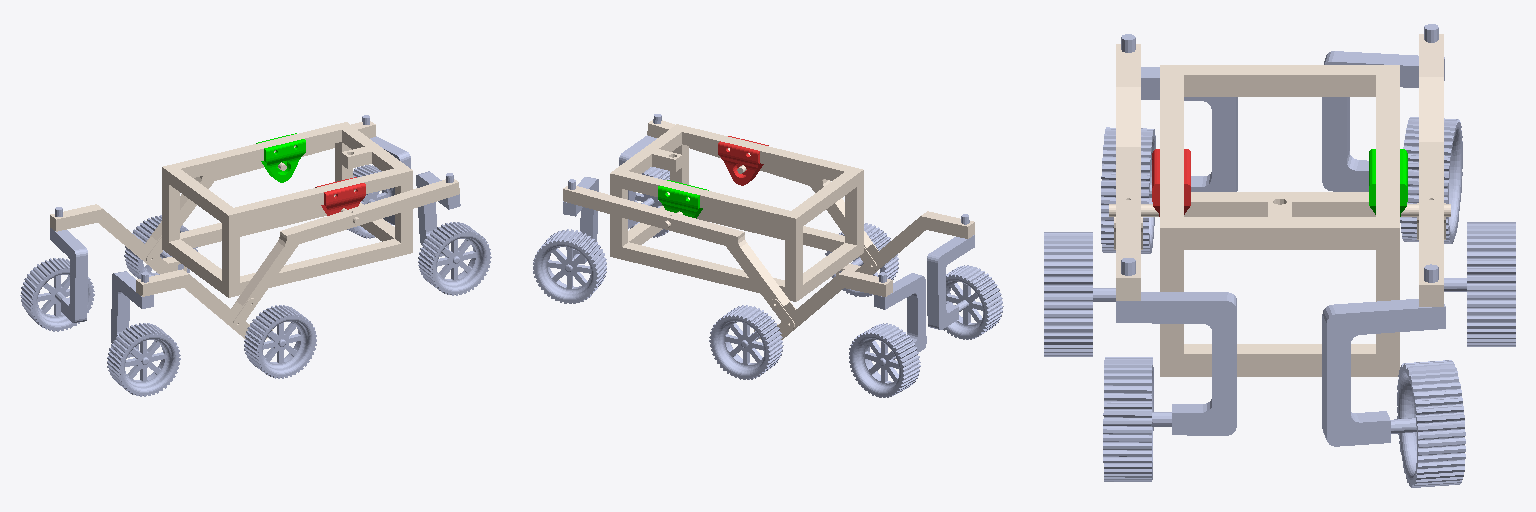
--- What the picture shows (computed from the rendered views, not written in the file) ---
3 views of the same robot in one strip: view 1: azimuth 30°, elevation 25°; view 2: azimuth 150°, elevation 25°; view 3: azimuth 270°, elevation 25° (orthographic).
Model rover_urdf with 19 links and 18 joints (14 continuous, 4 fixed), rooted at body, posed every joint at zero.
Links seen in each view (by area): view 1: body, left_back_leg, lm_wheel, lb_wheel, fl_wheel, fr_wheel, right_front_leg, fr_holder, left_front_leg, right_back_leg, fl_holder, right_holder (+5 smaller); view 2: body, right_back_leg, fr_wheel, rm_wheel, rb_wheel, fl_wheel, fl_holder, left_front_leg, fr_holder, right_front_leg, left_back_leg, left_holder (+5 smaller); view 3: body, rb_holder, rb_wheel, lb_holder, lb_wheel, lm_wheel, rm_wheel, fr_holder, right_back_leg, fl_holder, left_back_leg, fr_wheel (+5 smaller).
Boxes of the visible links, x1,y1,x2,y2 form: body: (162, 122, 412, 297); left_back_leg: (231, 179, 459, 328); lm_wheel: (244, 305, 316, 378); lb_wheel: (418, 222, 491, 295); fl_wheel: (107, 323, 180, 396); fr_wheel: (20, 258, 94, 331); right_front_leg: (50, 204, 186, 273); fr_holder: (50, 207, 87, 322); left_front_leg: (136, 269, 272, 338); right_back_leg: (145, 121, 375, 263); fl_holder: (111, 271, 153, 357); right_holder: (256, 133, 305, 182); body: (610, 124, 863, 301); right_back_leg: (563, 186, 795, 329); fr_wheel: (849, 323, 920, 397); rm_wheel: (709, 305, 783, 379); rb_wheel: (533, 229, 606, 303); fl_wheel: (943, 265, 1003, 339); fl_holder: (927, 214, 974, 329); left_front_leg: (836, 211, 974, 275); fr_holder: (874, 272, 926, 351); right_front_leg: (754, 269, 892, 339); left_back_leg: (647, 120, 878, 271); left_holder: (718, 136, 768, 185); body: (1160, 65, 1399, 376); rb_holder: (1322, 264, 1445, 446); rb_wheel: (1391, 360, 1465, 487); lb_holder: (1116, 258, 1236, 435); lb_wheel: (1103, 357, 1171, 481); lm_wheel: (1044, 232, 1115, 356); rm_wheel: (1444, 222, 1515, 346); fr_holder: (1322, 24, 1444, 191); right_back_leg: (1417, 142, 1445, 306); fl_holder: (1121, 34, 1237, 191); left_back_leg: (1114, 147, 1142, 300); fr_wheel: (1400, 117, 1462, 243).
Size in the robot's own frame: 0.8121 by 0.4892 by 0.3036 metres.
Meshes: 19 distinct files referenced, 19 mesh visuals loaded (19 binary STL).

robot.urdf — rover_urdf:
<?xml version="1.0" encoding="utf-8"?>
<!-- This URDF was automatically created by SolidWorks to URDF Exporter! Originally created by Stephen Brawner ([email redacted]) 
     Commit Version: 1.6.0-4-g7f85cfe  Build Version: 1.6.7995.38578
     For more information, please see http://wiki.ros.org/sw_urdf_exporter -->
<robot
  name="rover_urdf">
  <link
    name="body">
    <inertial>
      <origin
        xyz="0.00206695405737998 8.63122796209011E-17 0.0861748476723831"
        rpy="0 0 0" />
      <mass
        value="7.43015679181802" />
      <inertia
        ixx="0.108218854218212"
        ixy="2.57942889092488E-17"
        ixz="-0.0011001777951298"
        iyy="0.206151999566343"
        iyz="2.02909506100971E-17"
        izz="0.245214659613658" />
    </inertial>
    <visual>
      <origin
        xyz="0 0 0"
        rpy="0 0 0" />
      <geometry>
        <mesh
          filename="package://rover_urdf/meshes/body.STL" />
      </geometry>
      <material
        name="">
        <color
          rgba="1 0.949019607843137 0.898039215686275 1" />
      </material>
    </visual>
    <collision>
      <origin
        xyz="0 0 0"
        rpy="0 0 0" />
      <geometry>
        <mesh
          filename="package://rover_urdf/meshes/body.STL" />
      </geometry>
    </collision>
  </link>
  <link
    name="left_holder">
    <inertial>
      <origin
        xyz="0.0499999690870717 0.13535915620288 -0.111880212830167"
        rpy="0 0 0" />
      <mass
        value="0.129138142884314" />
      <inertia
        ixx="6.79797091007009E-05"
        ixy="2.56978296235324E-10"
        ixz="-7.42083730598593E-11"
        iyy="7.87496484871381E-05"
        iyz="8.00166419927739E-07"
        izz="0.000112770580014923" />
    </inertial>
    <visual>
      <origin
        xyz="0 0 0"
        rpy="0 0 0" />
      <geometry>
        <mesh
          filename="package://rover_urdf/meshes/left_holder.STL" />
      </geometry>
      <material
        name="">
        <color
          rgba="0.968627450980392 0.258823529411765 0.258823529411765 1" />
      </material>
    </visual>
    <collision>
      <origin
        xyz="0 0 0"
        rpy="0 0 0" />
      <geometry>
        <mesh
          filename="package://rover_urdf/meshes/left_holder.STL" />
      </geometry>
    </collision>
  </link>
  <joint
    name="left_holder_fixed_joint"
    type="fixed">
    <origin
      xyz="0 -0.2246 0"
      rpy="1.5707963267949 0 0" />
    <parent
      link="body" />
    <child
      link="left_holder" />
    <axis
      xyz="0 0 0" />
  </joint>
  <link
    name="left_axle">
    <inertial>
      <origin
        xyz="-1.03613220781007E-09 7.30010218941146E-10 0.0397044005984214"
        rpy="0 0 0" />
      <mass
        value="0.0402701593247288" />
      <inertia
        ixx="2.1263553866931E-05"
        ixy="-5.87477865433296E-12"
        ixz="-4.24680561742556E-13"
        iyy="2.12754497691933E-05"
        iyz="3.65475974322295E-13"
        izz="8.56678535708769E-07" />
    </inertial>
    <visual>
      <origin
        xyz="0 0 0"
        rpy="0 0 0" />
      <geometry>
        <mesh
          filename="package://rover_urdf/meshes/left_axle.STL" />
      </geometry>
      <material
        name="">
        <color
          rgba="1 0.949019607843137 0.898039215686275 1" />
      </material>
    </visual>
    <collision>
      <origin
        xyz="0 0 0"
        rpy="0 0 0" />
      <geometry>
        <mesh
          filename="package://rover_urdf/meshes/left_axle.STL" />
      </geometry>
    </collision>
  </link>
  <joint
    name="left_axle_joint"
    type="continuous">
    <origin
      xyz="0.0499999999999996 0.1204 -0.0465"
      rpy="3.14159265358979 0 0.0644510369253282" />
    <parent
      link="left_holder" />
    <child
      link="left_axle" />
    <axis
      xyz="0 0 1" />
  </joint>
  <link
    name="left_back_leg">
    <inertial>
      <origin
        xyz="0.0145957941948368 0.0983402459607765 0.157299999710009"
        rpy="0 0 0" />
      <mass
        value="1.31210889248458" />
      <inertia
        ixx="0.00167622865487846"
        ixy="-0.00445767787806799"
        ixz="-7.41039868795725E-12"
        iyy="0.0255229579148809"
        iyz="4.88113910572869E-11"
        izz="0.0270508960615517" />
    </inertial>
    <visual>
      <origin
        xyz="0 0 0"
        rpy="0 0 0" />
      <geometry>
        <mesh
          filename="package://rover_urdf/meshes/left_back_leg.STL" />
      </geometry>
      <material
        name="">
        <color
          rgba="1 0.949019607843137 0.898039215686275 1" />
      </material>
    </visual>
    <collision>
      <origin
        xyz="0 0 0"
        rpy="0 0 0" />
      <geometry>
        <mesh
          filename="package://rover_urdf/meshes/left_back_leg.STL" />
      </geometry>
    </collision>
  </link>
  <joint
    name="left_back_leg_axle_joint"
    type="fixed">
    <origin
      xyz="-0.0476714836347426 0.117573762583591 0.1781"
      rpy="3.14159265358979 0 0" />
    <parent
      link="left_axle" />
    <child
      link="left_back_leg" />
    <axis
      xyz="0 0 0" />
  </joint>
  <link
    name="left_front_leg">
    <inertial>
      <origin
        xyz="-0.0605411450020819 0.050696843595847 0.0127000000000002"
        rpy="0 0 0" />
      <mass
        value="0.843530398310415" />
      <inertia
        ixx="0.00257481623998851"
        ixy="0.00326111108154062"
        ixz="-2.84039950033016E-18"
        iyy="0.00472969767884993"
        iyz="1.73564283791052E-18"
        izz="0.00721240056924807" />
    </inertial>
    <visual>
      <origin
        xyz="0 0 0"
        rpy="0 0 0" />
      <geometry>
        <mesh
          filename="package://rover_urdf/meshes/left_front_leg.STL" />
      </geometry>
      <material
        name="">
        <color
          rgba="1 0.949019607843137 0.898039215686275 1" />
      </material>
    </visual>
    <collision>
      <origin
        xyz="0 0 0"
        rpy="0 0 0" />
      <geometry>
        <mesh
          filename="package://rover_urdf/meshes/left_front_leg.STL" />
      </geometry>
    </collision>
  </link>
  <joint
    name="left_front_back_leg_joint"
    type="continuous">
    <origin
      xyz="-0.218349872602567 -0.0185870814115816 0.1446"
      rpy="0 0 -0.0824258695188487" />
    <parent
      link="left_back_leg" />
    <child
      link="left_front_leg" />
    <axis
      xyz="0 0 1" />
  </joint>
  <link
    name="fl_holder">
    <inertial>
      <origin
        xyz="0.0711505399136167 0.0410733548247289 -5.55111512312578E-17"
        rpy="0 0 0" />
      <mass
        value="0.190347413867644" />
      <inertia
        ixx="0.000535696131129174"
        ixy="0.000179016703675683"
        ixz="-5.75982404132924E-20"
        iyy="0.000261704399386396"
        iyz="6.68308995383643E-19"
        izz="0.000777073421920895" />
    </inertial>
    <visual>
      <origin
        xyz="0 0 0"
        rpy="0 0 0" />
      <geometry>
        <mesh
          filename="package://rover_urdf/meshes/fl_holder.STL" />
      </geometry>
      <material
        name="">
        <color
          rgba="0.792156862745098 0.819607843137255 0.933333333333333 1" />
      </material>
    </visual>
    <collision>
      <origin
        xyz="0 0 0"
        rpy="0 0 0" />
      <geometry>
        <mesh
          filename="package://rover_urdf/meshes/fl_holder.STL" />
      </geometry>
    </collision>
  </link>
  <joint
    name="fl_leg_joint"
    type="continuous">
    <origin
      xyz="-0.194966017177982 0 0.0127"
      rpy="0 1.5086961784931 0" />
    <parent
      link="left_front_leg" />
    <child
      link="fl_holder" />
    <axis
      xyz="0 1 0" />
  </joint>
  <link
    name="fl_wheel">
    <inertial>
      <origin
        xyz="0.000203581507097816 0.0113246996991012 -0.00160037411430669"
        rpy="0 0 0" />
      <mass
        value="0.305519240949563" />
      <inertia
        ixx="0.000500620049724043"
        ixy="-1.02993912430203E-19"
        ixz="1.55854062294791E-19"
        iyy="0.000500620049724043"
        iyz="-1.86082550599929E-19"
        izz="0.000858204039468509" />
    </inertial>
    <visual>
      <origin
        xyz="0 0 0"
        rpy="0 0 0" />
      <geometry>
        <mesh
          filename="package://rover_urdf/meshes/fl_wheel.STL" />
      </geometry>
      <material
        name="">
        <color
          rgba="0.792156862745098 0.819607843137255 0.933333333333333 1" />
      </material>
    </visual>
    <collision>
      <origin
        xyz="0 0 0"
        rpy="0 0 0" />
      <geometry>
        <mesh
          filename="package://rover_urdf/meshes/fl_wheel.STL" />
      </geometry>
    </collision>
  </link>
  <joint
    name="fl_wheel_joint"
    type="continuous">
    <origin
      xyz="0 -0.05 0"
      rpy="-1.57079632679489 -1.55282149420139 1.57079632679489" />
    <parent
      link="fl_holder" />
    <child
      link="fl_wheel" />
    <axis
      xyz="0 0 1" />
  </joint>
  <link
    name="lm_wheel">
    <inertial>
      <origin
        xyz="0 2.77555756156289E-17 0.0733996258856932"
        rpy="0 0 0" />
      <mass
        value="0.305519240949563" />
      <inertia
        ixx="0.000500620049724045"
        ixy="1.21332637754592E-19"
        ixz="1.63840545848342E-20"
        iyy="0.000500620049724043"
        iyz="-2.72995451536641E-19"
        izz="0.000858204039468509" />
    </inertial>
    <visual>
      <origin
        xyz="0 0 0"
        rpy="0 0 0" />
      <geometry>
        <mesh
          filename="package://rover_urdf/meshes/lm_wheel.STL" />
      </geometry>
      <material
        name="">
        <color
          rgba="0.792156862745098 0.819607843137255 0.933333333333333 1" />
      </material>
    </visual>
    <collision>
      <origin
        xyz="0 0 0"
        rpy="0 0 0" />
      <geometry>
        <mesh
          filename="package://rover_urdf/meshes/lm_wheel.STL" />
      </geometry>
    </collision>
  </link>
  <joint
    name="lm_wheel_joint"
    type="continuous">
    <origin
      xyz="0.0650407683632072 -0.0322012806053459 0"
      rpy="0 0 0.0179748325935204" />
    <parent
      link="left_front_leg" />
    <child
      link="lm_wheel" />
    <axis
      xyz="0 0 1" />
  </joint>
  <link
    name="lb_holder">
    <inertial>
      <origin
        xyz="0.0711505399136166 0.0473205879881984 -7.21644966006352E-16"
        rpy="0 0 0" />
      <mass
        value="0.190347413867644" />
      <inertia
        ixx="0.000535696131129173"
        ixy="0.000179016703675683"
        ixz="6.64073830647371E-19"
        iyy="0.000261704399386396"
        iyz="1.64133809354202E-18"
        izz="0.000777073421920894" />
    </inertial>
    <visual>
      <origin
        xyz="0 0 0"
        rpy="0 0 0" />
      <geometry>
        <mesh
          filename="package://rover_urdf/meshes/lb_holder.STL" />
      </geometry>
      <material
        name="">
        <color
          rgba="0.792156862745098 0.819607843137255 0.933333333333333 1" />
      </material>
    </visual>
    <collision>
      <origin
        xyz="0 0 0"
        rpy="0 0 0" />
      <geometry>
        <mesh
          filename="package://rover_urdf/meshes/lb_holder.STL" />
      </geometry>
    </collision>
  </link>
  <joint
    name="lb_leg_joint"
    type="continuous">
    <origin
      xyz="0.259971483634744 0 0.1573"
      rpy="0 1.55334303427495 0" />
    <parent
      link="left_back_leg" />
    <child
      link="lb_holder" />
    <axis
      xyz="0 1 0" />
  </joint>
  <link
    name="lb_wheel">
    <inertial>
      <origin
        xyz="-0.00113169153595838 0.017537285878967 -0.00160037711710542"
        rpy="0 0 0" />
      <mass
        value="0.305519240949564" />
      <inertia
        ixx="0.000500620049724045"
        ixy="-1.95473532094244E-19"
        ixz="-3.93491841927274E-12"
        iyy="0.000500620049724055"
        iyz="6.09729238209779E-11"
        izz="0.000858204039468501" />
    </inertial>
    <visual>
      <origin
        xyz="0 0 0"
        rpy="0 0 0" />
      <geometry>
        <mesh
          filename="package://rover_urdf/meshes/lb_wheel.STL" />
      </geometry>
      <material
        name="">
        <color
          rgba="0.792156862745098 0.819607843137255 0.933333333333333 1" />
      </material>
    </visual>
    <collision>
      <origin
        xyz="0 0 0"
        rpy="0 0 0" />
      <geometry>
        <mesh
          filename="package://rover_urdf/meshes/lb_wheel.STL" />
      </geometry>
    </collision>
  </link>
  <joint
    name="lb_wheel_joint"
    type="continuous">
    <origin
      xyz="0 -0.05 0"
      rpy="1.57079632678182 -1.50635507890713 -1.57079615591356" />
    <parent
      link="lb_holder" />
    <child
      link="lb_wheel" />
    <axis
      xyz="0 0 0.999999999999985" />
  </joint>
  <link
    name="right_holder">
    <inertial>
      <origin
        xyz="0.04999999957255 0.135359073242859 0.111880180194248"
        rpy="0 0 0" />
      <mass
        value="0.129137885331938" />
      <inertia
        ixx="6.79797620265011E-05"
        ixy="5.45958569183833E-12"
        ixz="-8.9540895630707E-12"
        iyy="7.87496690912117E-05"
        iyz="-8.00149318237473E-07"
        izz="0.00011277070569514" />
    </inertial>
    <visual>
      <origin
        xyz="0 0 0"
        rpy="0 0 0" />
      <geometry>
        <mesh
          filename="package://rover_urdf/meshes/right_holder.STL" />
      </geometry>
      <material
        name="">
        <color
          rgba="0 1 0 1" />
      </material>
    </visual>
    <collision>
      <origin
        xyz="0 0 0"
        rpy="0 0 0" />
      <geometry>
        <mesh
          filename="package://rover_urdf/meshes/right_holder.STL" />
      </geometry>
    </collision>
  </link>
  <joint
    name="right_holder_fixed_joint"
    type="fixed">
    <origin
      xyz="0 0.2246 0"
      rpy="1.5707963267949 0 0" />
    <parent
      link="body" />
    <child
      link="right_holder" />
    <axis
      xyz="0 0 0" />
  </joint>
  <link
    name="right_axle">
    <inertial>
      <origin
        xyz="-1.03613222168786E-09 7.30010218941146E-10 0.0397044005984214"
        rpy="0 0 0" />
      <mass
        value="0.0402701593247288" />
      <inertia
        ixx="2.1263553866931E-05"
        ixy="-5.8747786541212E-12"
        ixz="-4.2468056190668E-13"
        iyy="2.12754497691933E-05"
        iyz="3.65475974495476E-13"
        izz="8.56678535708768E-07" />
    </inertial>
    <visual>
      <origin
        xyz="0 0 0"
        rpy="0 0 0" />
      <geometry>
        <mesh
          filename="package://rover_urdf/meshes/right_axle.STL" />
      </geometry>
      <material
        name="">
        <color
          rgba="1 0.949019607843137 0.898039215686275 1" />
      </material>
    </visual>
    <collision>
      <origin
        xyz="0 0 0"
        rpy="0 0 0" />
      <geometry>
        <mesh
          filename="package://rover_urdf/meshes/right_axle.STL" />
      </geometry>
    </collision>
  </link>
  <joint
    name="right_axle_joint"
    type="continuous">
    <origin
      xyz="0.0499999999999996 0.1204 0.0465"
      rpy="0 0 0.0292631626190345" />
    <parent
      link="right_holder" />
    <child
      link="right_axle" />
    <axis
      xyz="0 0 1" />
  </joint>
  <link
    name="right_back_leg">
    <inertial>
      <origin
        xyz="0.0169243105294223 0.101166483380006 0.152699999709828"
        rpy="0 0 0" />
      <mass
        value="1.3121088924851" />
      <inertia
        ixx="0.00167622865450909"
        ixy="-0.0044576778778098"
        ixz="-7.5603685899247E-12"
        iyy="0.0255229579133605"
        iyz="4.88931750303466E-11"
        izz="0.0270508960596626" />
    </inertial>
    <visual>
      <origin
        xyz="0 0 0"
        rpy="0 0 0" />
      <geometry>
        <mesh
          filename="package://rover_urdf/meshes/right_back_leg.STL" />
      </geometry>
      <material
        name="">
        <color
          rgba="1 0.949019607843137 0.898039215686275 1" />
      </material>
    </visual>
    <collision>
      <origin
        xyz="0 0 0"
        rpy="0 0 0" />
      <geometry>
        <mesh
          filename="package://rover_urdf/meshes/right_back_leg.STL" />
      </geometry>
    </collision>
  </link>
  <joint
    name="right_back_leg_axle_joint"
    type="fixed">
    <origin
      xyz="-0.0499999999999996 -0.1204 -0.1319"
      rpy="0 0 0" />
    <parent
      link="right_axle" />
    <child
      link="right_back_leg" />
    <axis
      xyz="0 0 0" />
  </joint>
  <link
    name="right_front_leg">
    <inertial>
      <origin
        xyz="-0.060541145002082 0.050696843595847 0.0127000000000002"
        rpy="0 0 0" />
      <mass
        value="0.843530398310416" />
      <inertia
        ixx="0.00257481623998852"
        ixy="0.00326111108154062"
        ixz="-2.7652945463983E-18"
        iyy="0.00472969767884994"
        iyz="1.68958113295206E-18"
        izz="0.00721240056924809" />
    </inertial>
    <visual>
      <origin
        xyz="0 0 0"
        rpy="0 0 0" />
      <geometry>
        <mesh
          filename="package://rover_urdf/meshes/right_front_leg.STL" />
      </geometry>
      <material
        name="">
        <color
          rgba="1 0.949019607843137 0.898039215686275 1" />
      </material>
    </visual>
    <collision>
      <origin
        xyz="0 0 0"
        rpy="0 0 0" />
      <geometry>
        <mesh
          filename="package://rover_urdf/meshes/right_front_leg.STL" />
      </geometry>
    </collision>
  </link>
  <joint
    name="right_front_back_leg_joint"
    type="continuous">
    <origin
      xyz="-0.21602135623731 -0.0157608439951716 0.14"
      rpy="0 0 -0.0477808784276785" />
    <parent
      link="right_back_leg" />
    <child
      link="right_front_leg" />
    <axis
      xyz="0 0 1" />
  </joint>
  <link
    name="fr_holder">
    <inertial>
      <origin
        xyz="0.0711505399136167 0.0410733548247288 2.22044604925031E-16"
        rpy="0 0 0" />
      <mass
        value="0.190347413867644" />
      <inertia
        ixx="0.000535696131129174"
        ixy="0.000179016703675683"
        ixz="-5.89534931288993E-19"
        iyy="0.000261704399386396"
        iyz="5.62429876976855E-19"
        izz="0.000777073421920895" />
    </inertial>
    <visual>
      <origin
        xyz="0 0 0"
        rpy="0 0 0" />
      <geometry>
        <mesh
          filename="package://rover_urdf/meshes/fr_holder.STL" />
      </geometry>
      <material
        name="">
        <color
          rgba="0.792156862745098 0.819607843137255 0.933333333333333 1" />
      </material>
    </visual>
    <collision>
      <origin
        xyz="0 0 0"
        rpy="0 0 0" />
      <geometry>
        <mesh
          filename="package://rover_urdf/meshes/fr_holder.STL" />
      </geometry>
    </collision>
  </link>
  <joint
    name="fr_leg_joint"
    type="continuous">
    <origin
      xyz="-0.194966017177982 0 0.0126999999999999"
      rpy="3.14159265358979 -1.44828141211352 3.14159265358979" />
    <parent
      link="right_front_leg" />
    <child
      link="fr_holder" />
    <axis
      xyz="0 1 0" />
  </joint>
  <link
    name="fr_wheel">
    <inertial>
      <origin
        xyz="-0.000209617258744688 0.0113245895868102 -0.00160037411430679"
        rpy="0 0 0" />
      <mass
        value="0.305519240949563" />
      <inertia
        ixx="0.000500620049724044"
        ixy="3.64727093131781E-19"
        ixz="3.72694496791892E-19"
        iyy="0.000500620049724043"
        iyz="1.17631700549941E-19"
        izz="0.000858204039468509" />
    </inertial>
    <visual>
      <origin
        xyz="0 0 0"
        rpy="0 0 0" />
      <geometry>
        <mesh
          filename="package://rover_urdf/meshes/fr_wheel.STL" />
      </geometry>
      <material
        name="">
        <color
          rgba="0.792156862745098 0.819607843137255 0.933333333333333 1" />
      </material>
    </visual>
    <collision>
      <origin
        xyz="0 0 0"
        rpy="0 0 0" />
      <geometry>
        <mesh
          filename="package://rover_urdf/meshes/fr_wheel.STL" />
      </geometry>
    </collision>
  </link>
  <joint
    name="fr_wheel_joint"
    type="continuous">
    <origin
      xyz="0 -0.05 0"
      rpy="1.57079632679505 -1.55228851928744 -1.57079632679505" />
    <parent
      link="fr_holder" />
    <child
      link="fr_wheel" />
    <axis
      xyz="0 0 1" />
  </joint>
  <link
    name="rm_wheel">
    <inertial>
      <origin
        xyz="0 0 0.0479996258856927"
        rpy="0 0 0" />
      <mass
        value="0.305519240949563" />
      <inertia
        ixx="0.000500620049724044"
        ixy="3.4652923618212E-19"
        ixz="4.42624390902315E-20"
        iyy="0.000500620049724043"
        iyz="-2.2835354785292E-19"
        izz="0.000858204039468509" />
    </inertial>
    <visual>
      <origin
        xyz="0 0 0"
        rpy="0 0 0" />
      <geometry>
        <mesh
          filename="package://rover_urdf/meshes/rm_wheel.STL" />
      </geometry>
      <material
        name="">
        <color
          rgba="0.792156862745098 0.819607843137255 0.933333333333333 1" />
      </material>
    </visual>
    <collision>
      <origin
        xyz="0 0 0"
        rpy="0 0 0" />
      <geometry>
        <mesh
          filename="package://rover_urdf/meshes/rm_wheel.STL" />
      </geometry>
    </collision>
  </link>
  <joint
    name="rm_wheel_joint"
    type="continuous">
    <origin
      xyz="0.0650407683632072 -0.0322012806053458 0"
      rpy="3.14159265358979 0 -3.12307493778115" />
    <parent
      link="right_front_leg" />
    <child
      link="rm_wheel" />
    <axis
      xyz="0 0 1" />
  </joint>
  <link
    name="rb_holder">
    <inertial>
      <origin
        xyz="0.0711505399136166 0.0501468254046083 1.11022302462516E-16"
        rpy="0 0 0" />
      <mass
        value="0.190347413867644" />
      <inertia
        ixx="0.000535696131129173"
        ixy="0.000179016703675683"
        ixz="3.86247023947961E-19"
        iyy="0.000261704399386396"
        iyz="-1.33322985897827E-18"
        izz="0.000777073421920894" />
    </inertial>
    <visual>
      <origin
        xyz="0 0 0"
        rpy="0 0 0" />
      <geometry>
        <mesh
          filename="package://rover_urdf/meshes/rb_holder.STL" />
      </geometry>
      <material
        name="">
        <color
          rgba="0.792156862745098 0.819607843137255 0.933333333333333 1" />
      </material>
    </visual>
    <collision>
      <origin
        xyz="0 0 0"
        rpy="0 0 0" />
      <geometry>
        <mesh
          filename="package://rover_urdf/meshes/rb_holder.STL" />
      </geometry>
    </collision>
  </link>
  <joint
    name="rb_leg_joint"
    type="continuous">
    <origin
      xyz="0.2623 0 0.152700000000001"
      rpy="0 -1.39668319414321 0" />
    <parent
      link="right_back_leg" />
    <child
      link="rb_holder" />
    <axis
      xyz="0 1 0" />
  </joint>
  <link
    name="rb_wheel">
    <inertial>
      <origin
        xyz="-0.000866725594899365 -0.0295873078657582 0.00839962588569323"
        rpy="0 0 0" />
      <mass
        value="0.305519240949564" />
      <inertia
        ixx="0.000500620049724045"
        ixy="1.90873580707836E-19"
        ixz="1.82959116606929E-19"
        iyy="0.000500620049724043"
        iyz="-1.0842021724855E-19"
        izz="0.00085820403946851" />
    </inertial>
    <visual>
      <origin
        xyz="0 0 0"
        rpy="0 0 0" />
      <geometry>
        <mesh
          filename="package://rover_urdf/meshes/rb_wheel.STL" />
      </geometry>
      <material
        name="">
        <color
          rgba="0.792156862745098 0.819607843137255 0.933333333333333 1" />
      </material>
    </visual>
    <collision>
      <origin
        xyz="0 0 0"
        rpy="0 0 0" />
      <geometry>
        <mesh
          filename="package://rover_urdf/meshes/rb_wheel.STL" />
      </geometry>
    </collision>
  </link>
  <joint
    name="rb_wheel_joint"
    type="continuous">
    <origin
      xyz="0.01 0 0"
      rpy="-1.57079632679492 -1.54151087082347 1.57079632679492" />
    <parent
      link="rb_holder" />
    <child
      link="rb_wheel" />
    <axis
      xyz="0 0 1" />
  </joint>
</robot>
